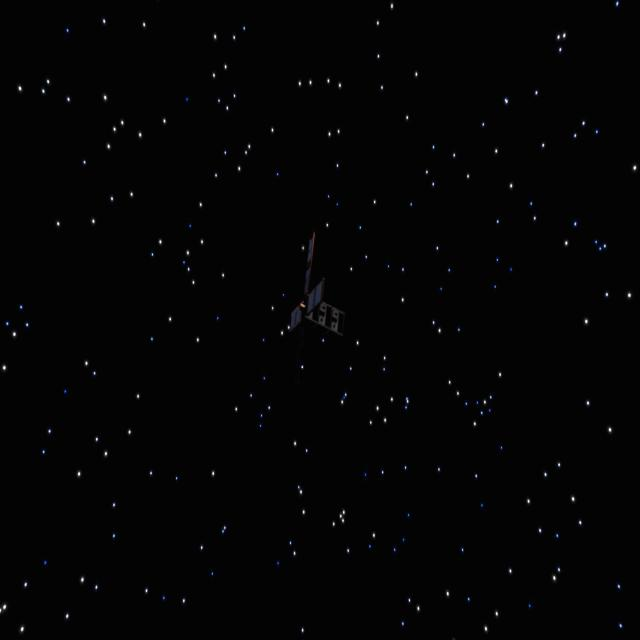medium_debris: (260, 231, 347, 368)
